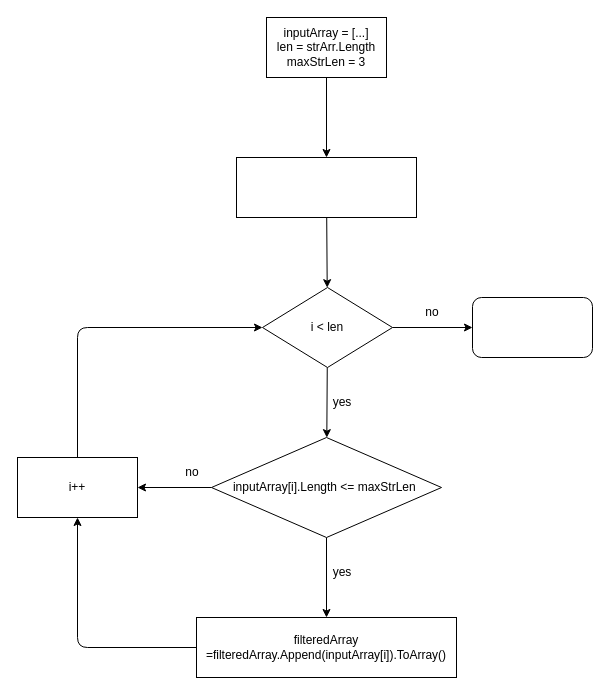
Some shapes in this 610 by 695 pixel diagram are drawn without their labels. The shapes that lost their labels are listed below. From the top down, each one's centre as x and y in pixels, then its label:
At (x=326, y=187): "i = 0 filteredArray = new string [0]".
At (x=532, y=327): "return filteredArray".
